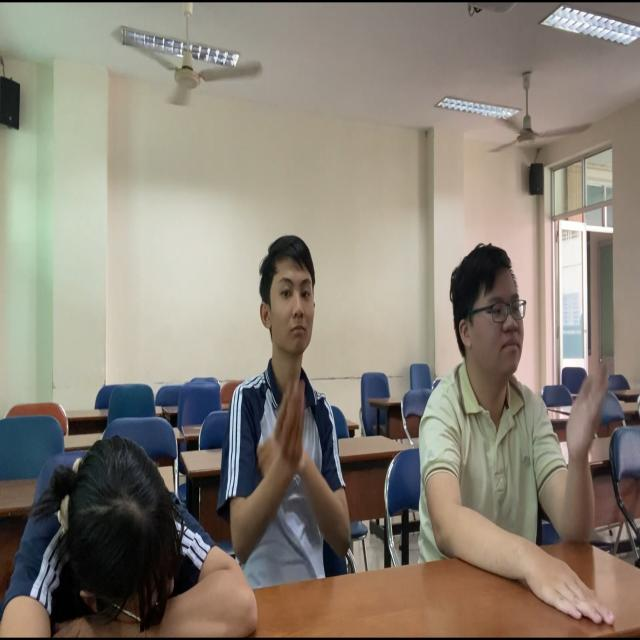sleep: (1, 427, 227, 638)
